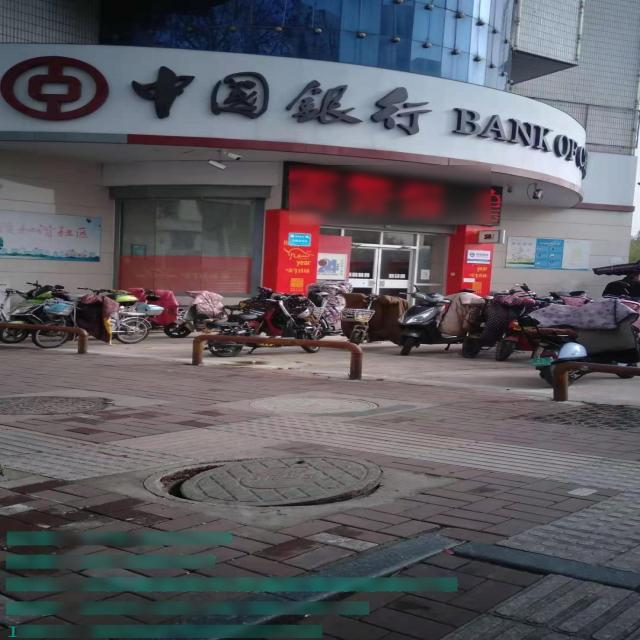Good: (249, 396, 379, 417), (4, 395, 116, 413)
Lose: (139, 450, 391, 507)
